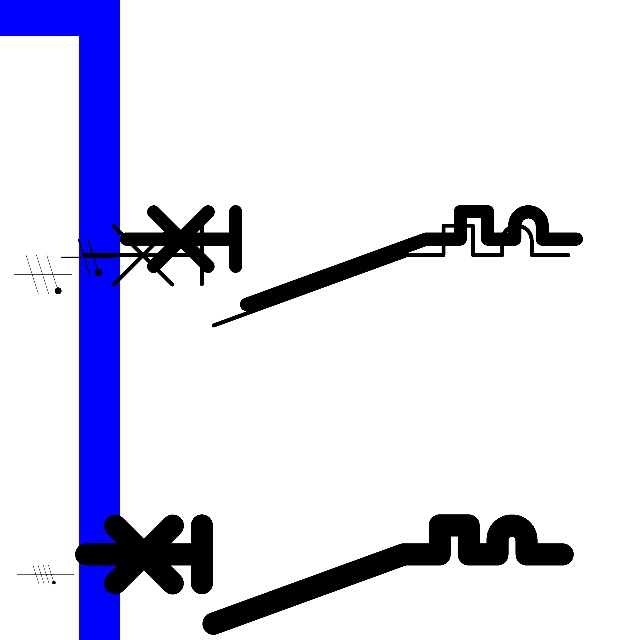interruptor_termomagnetico: (71, 213, 581, 337), (73, 513, 574, 635), (114, 200, 587, 316)
